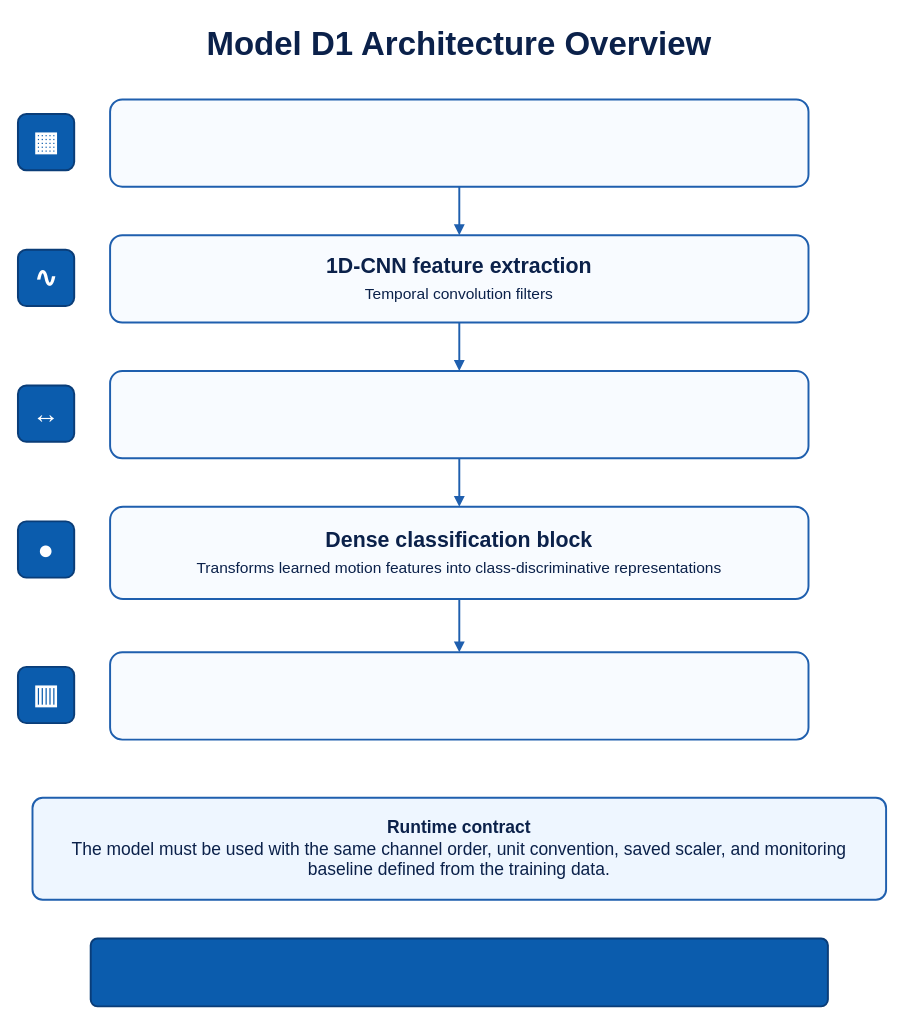
This 903x1023 diagram has some shape labels left out. The centre of each missing label's shape, as x and y in pixels:
11-class softmax output Fixed label order: (x=459, y=695)
BiLSTM sequence modelling Captures temporal dependencies across the full window: (x=459, y=414)
Final runtime model: Model D1, 967,499 total parameters: (x=458, y=972)
Input window (200, 6) 4 seconds of six-channel wearable sensor data at 50 Hz: (x=459, y=142)
